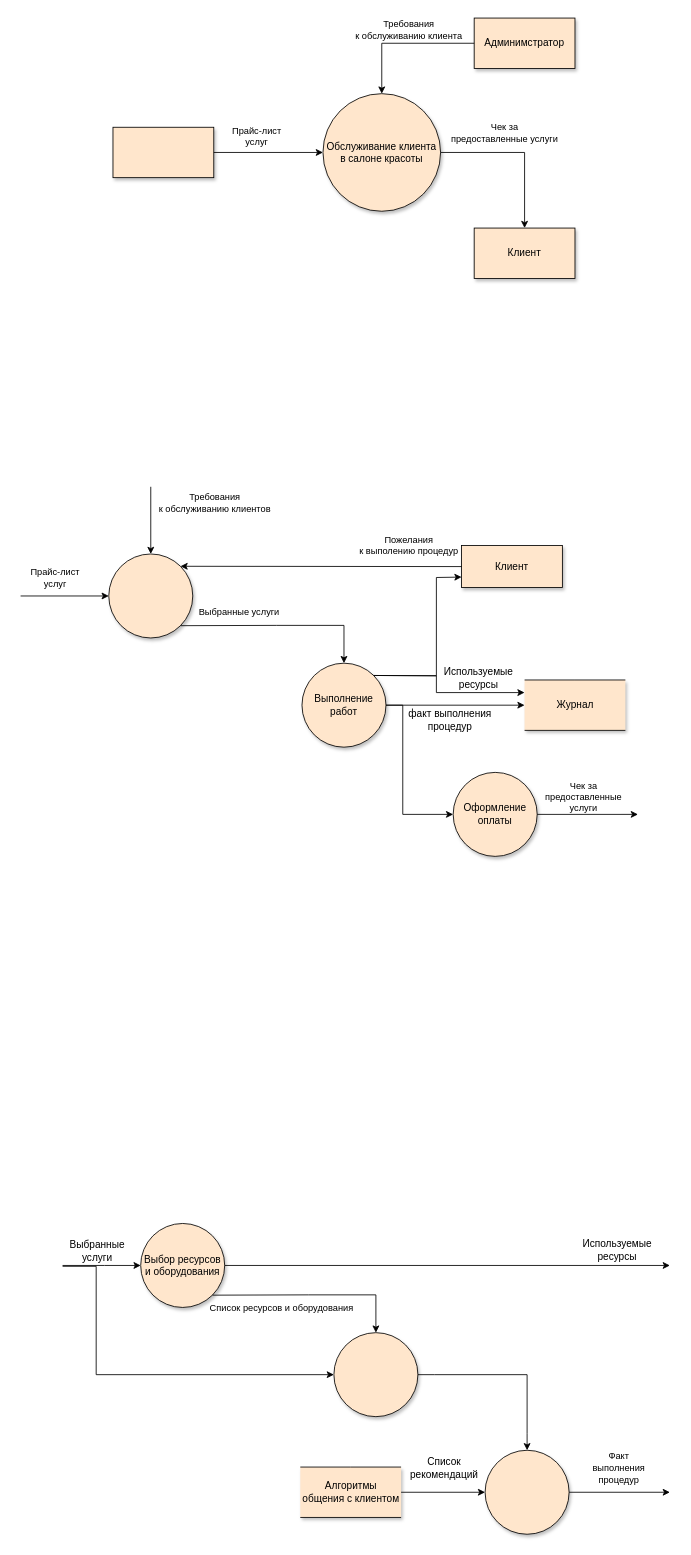
Some shapes in this 691 by 1555 pixel diagram are drawn without their labels. The shapes that lost their labels are listed below. From the top down, each one's centre as x and y in pixels, then its label:
the point at 164,153: Салон красоты
the point at 151,597: Прием заказа
the point at 376,1375: Проведение процедур
the point at 527,1493: Предоставление рекомендаций по дальнейшему уходу
